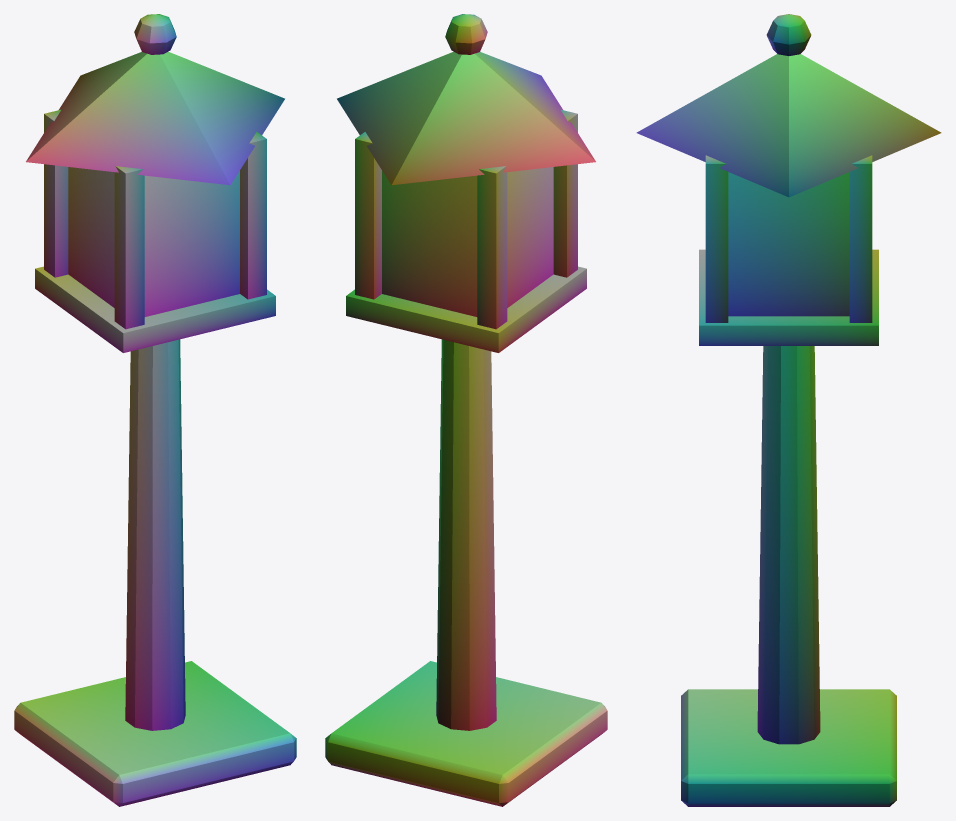
Rendered from street_lantern.fbx.
The picture shows the model from 3 angles, left to right: view 1: azimuth 30°, elevation 25°; view 2: azimuth 150°, elevation 25°; view 3: azimuth 270°, elevation 25°; orthographic projection.
Visible parts, largest first — view 1: street_lantern; view 2: street_lantern; view 3: street_lantern.
Part boxes in pixels (x1,y1,x2,y2): street_lantern: (14,14,296,806); street_lantern: (325,14,607,806); street_lantern: (636,14,941,806).
Size of the model in its own units: 0.34 by 0.92 by 0.34.
